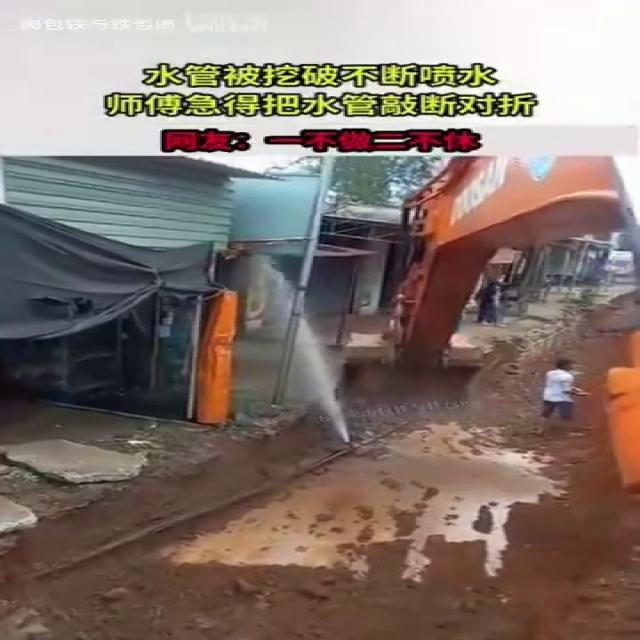leak: (254, 266, 357, 444)
